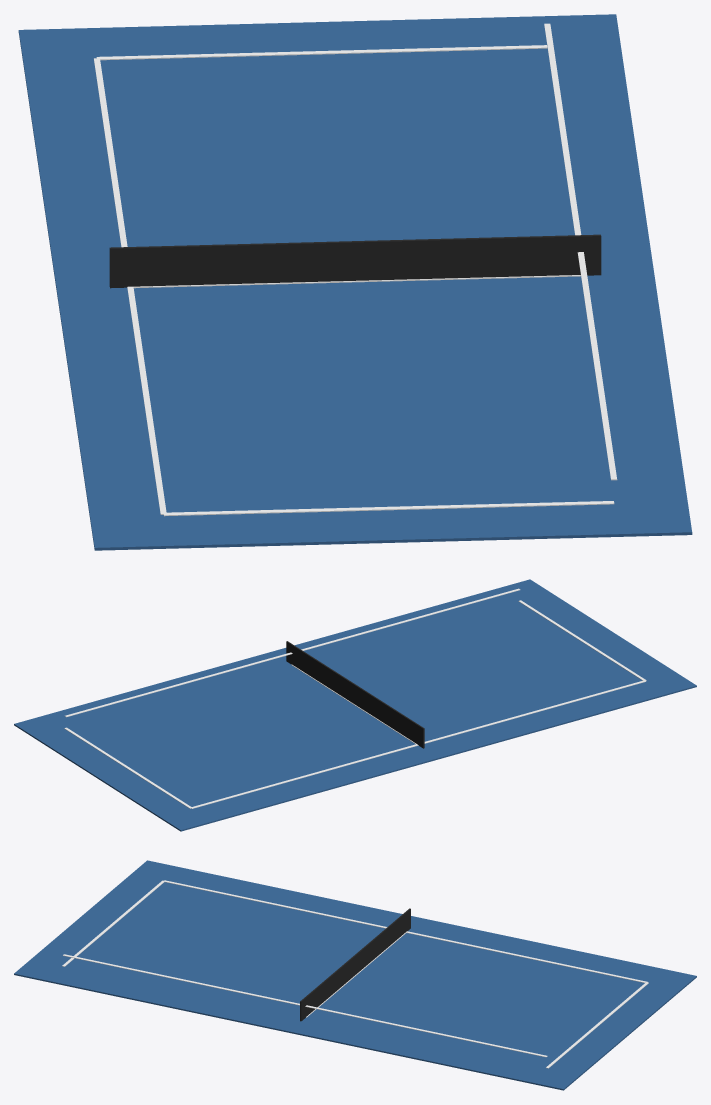
The model's file is nd_pitch_1499487637.glb.
3 views of the same model, one above another, from view 1: azimuth 30°, elevation 25°; view 2: azimuth 150°, elevation 25°; view 3: azimuth 270°, elevation 25° (orthographic). The views are drawn at different scales.
Visible parts, largest first — view 1: nd_pitch_1499487637_lod0; view 2: nd_pitch_1499487637_lod0; view 3: nd_pitch_1499487637_lod0.
Boxes of the visible parts, x1,y1,x2,y2 form: nd_pitch_1499487637_lod0: (18,14,692,550); nd_pitch_1499487637_lod0: (14,579,696,831); nd_pitch_1499487637_lod0: (14,860,696,1090).
Size of what is drawn, in the model's own units: 21.17 by 0.9484 by 26.7.
